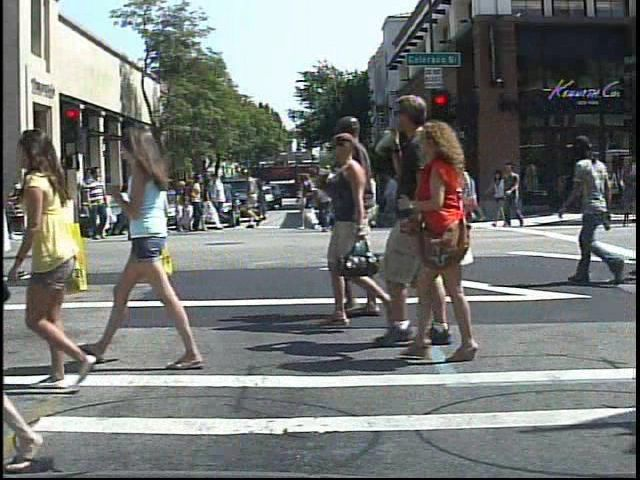person: (356, 86, 473, 349), (397, 119, 512, 364), (104, 112, 202, 376), (11, 123, 109, 383), (565, 124, 632, 291), (126, 160, 159, 246), (81, 162, 113, 241), (453, 160, 484, 232), (33, 167, 61, 244), (9, 180, 29, 242), (94, 181, 114, 221)
